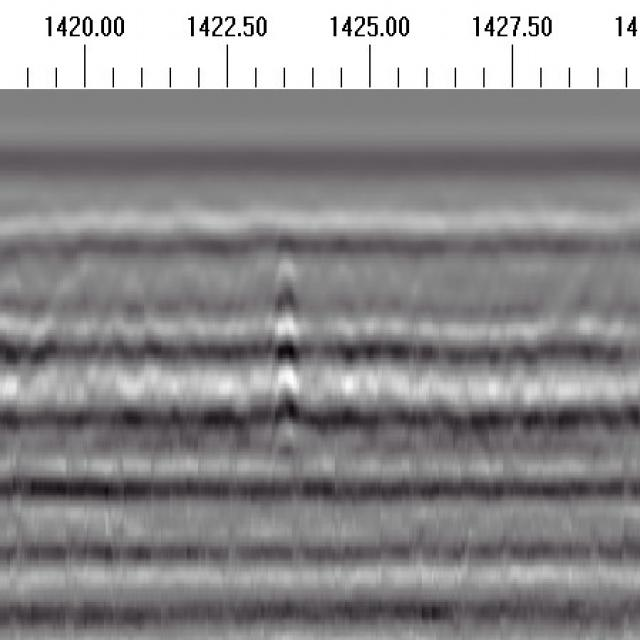crack: (272, 219, 300, 488)
